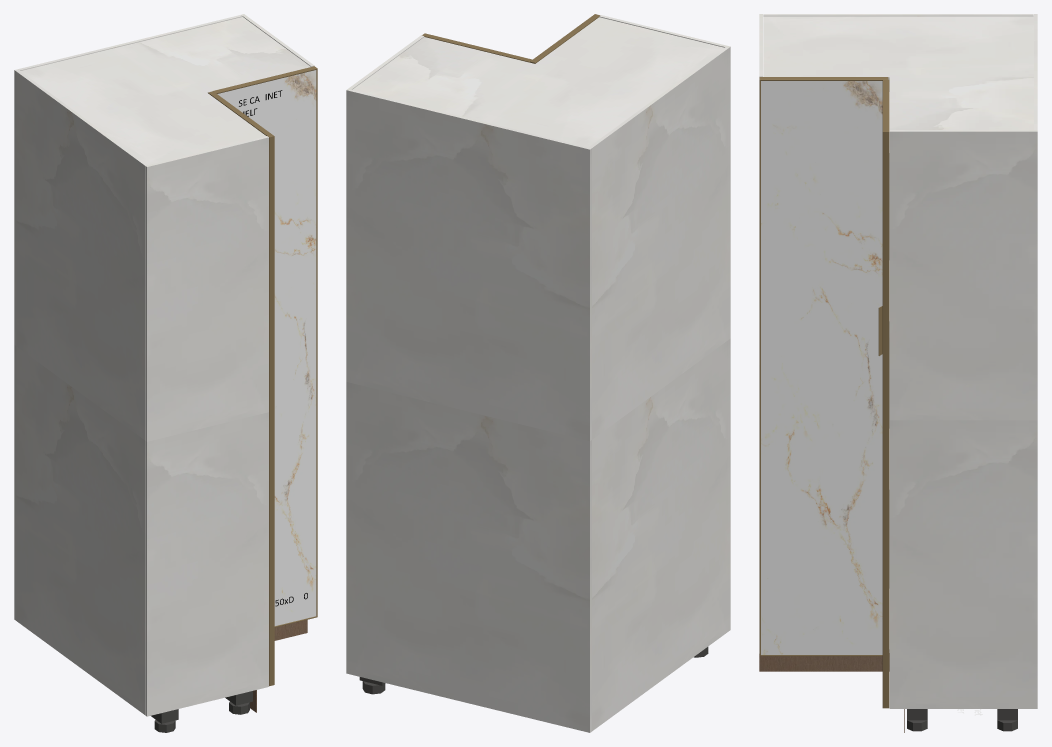
Rendered from TLC-SH-TTS-ST-6SX-XXX-XXX-1050-2400-560-15.glb.
3 renders of one model, left to right at view 1: azimuth 30°, elevation 25°; view 2: azimuth 150°, elevation 25°; view 3: azimuth 270°, elevation 25°, orthographic. The views are drawn at different scales.
Parts seen in each view (by area): view 1: TP_node_0, TP_node_2, Object_node_11, TP, Extrusion_node_6, TP_node_1, Extrusion_node; view 2: TP_node_1, TP_node_0, TP, TP_node, TP_node_2; view 3: TP_node, Object_node_13, TP, Extrusion_node, Object_node_17, Extrusion_node_6, TP_node_0, TP_node_2, Extrusion_node_3, TP_node_1.
Boxes of the visible parts, <box> form: TP_node_0: <box>16,70,147,714</box>; TP_node_2: <box>145,136,268,716</box>; Object_node_11: <box>217,70,316,625</box>; TP: <box>20,17,310,164</box>; Extrusion_node_6: <box>269,136,274,686</box>; TP_node_1: <box>14,15,242,620</box>; Extrusion_node: <box>316,69,317,616</box>; TP_node_1: <box>349,89,591,732</box>; TP_node_0: <box>589,47,728,731</box>; TP: <box>353,17,723,147</box>; TP_node: <box>346,35,424,674</box>; TP_node_2: <box>599,15,730,630</box>; TP_node: <box>889,130,1037,708</box>; Object_node_13: <box>761,81,882,654</box>; TP: <box>763,16,1033,129</box>; Extrusion_node: <box>882,132,889,708</box>; Object_node_17: <box>759,653,889,671</box>; Extrusion_node_6: <box>759,80,760,655</box>; TP_node_0: <box>763,14,1033,588</box>; TP_node_2: <box>759,14,762,653</box>; Extrusion_node_3: <box>759,77,888,80</box>; TP_node_1: <box>1034,14,1037,129</box>.
Size of what is drawn, in the model's own units: 1.05 by 2.5 by 1.05.
Materials: 7 (3 with a texture image).
